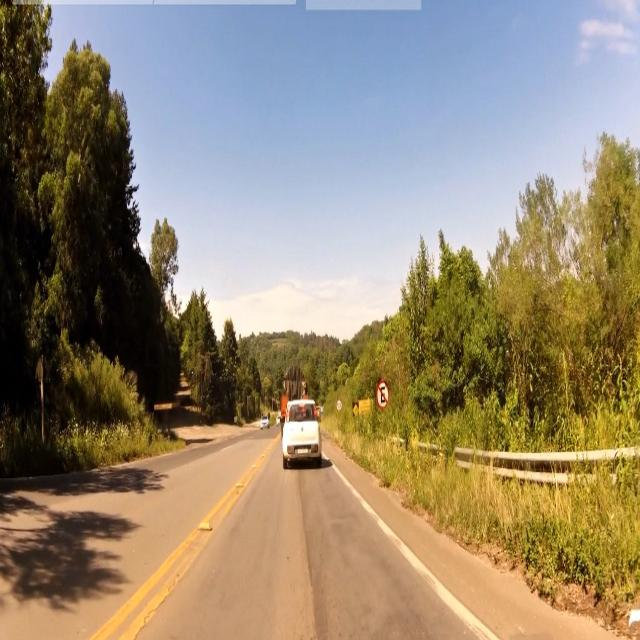R-6a: (375, 379, 390, 411)
